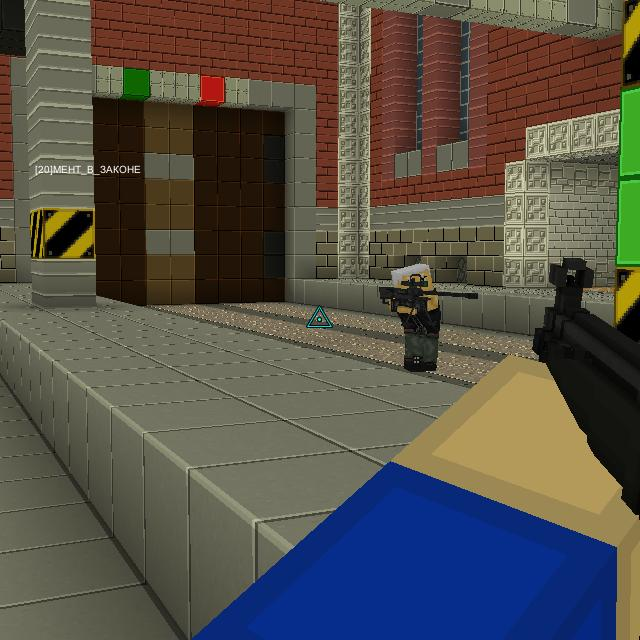enemy: (386, 260, 449, 374)
